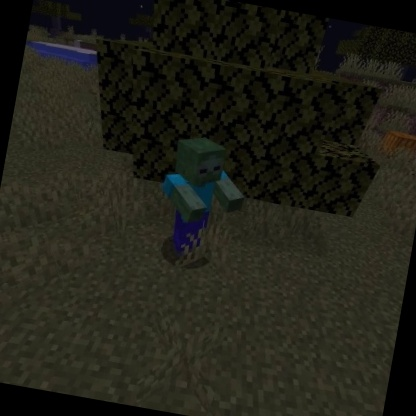zombie: (145, 128, 257, 274)
